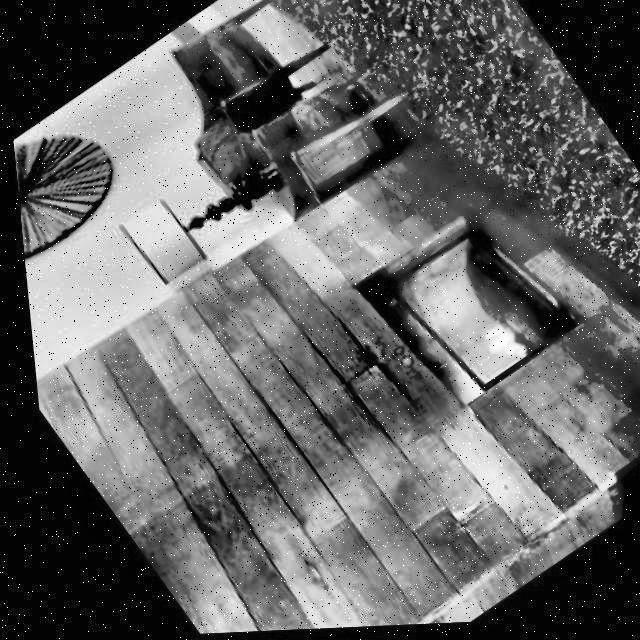Fire: (456, 316, 526, 381)
